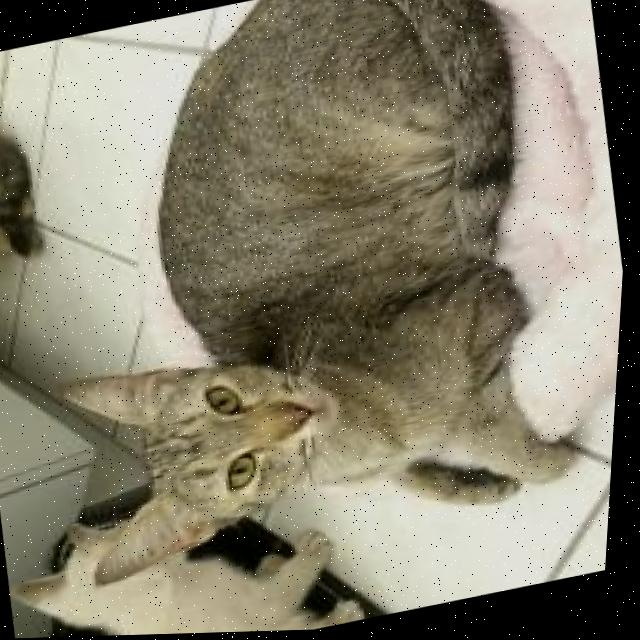Abyssinian: (0, 0, 608, 601)
